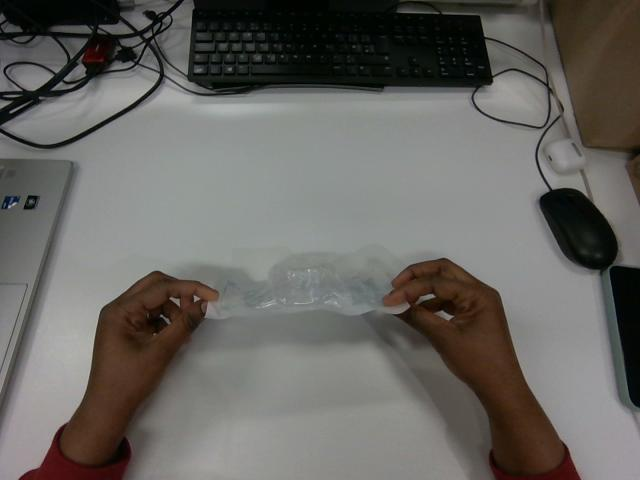gallipot: (206, 245, 408, 318)
